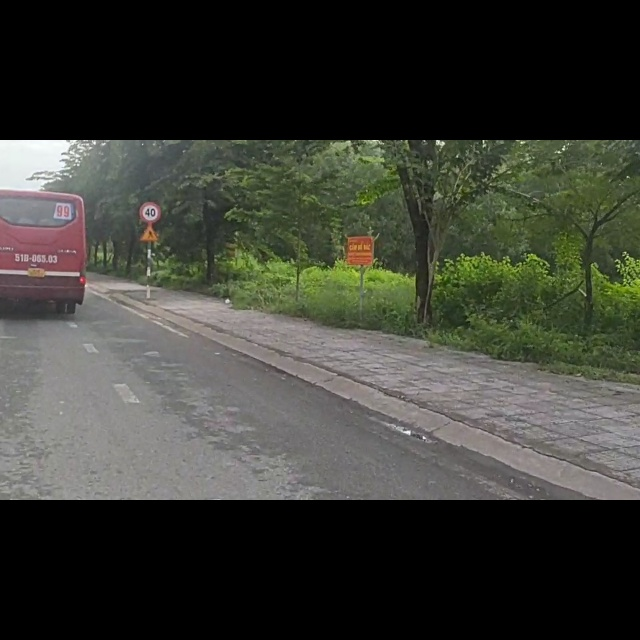bien_nguy_hiem: (139, 105, 166, 146), (139, 148, 162, 184)
